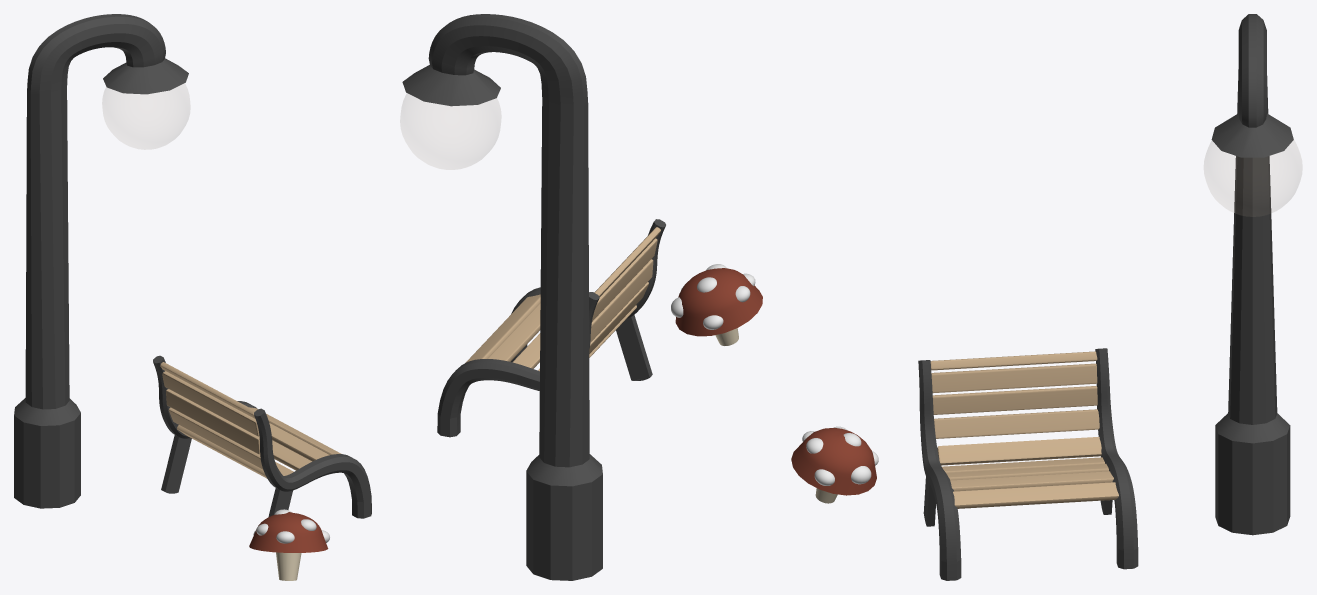
File: 10 lab.fbx
3 views of the same model, side by side, from view 1: azimuth 30°, elevation 25°; view 2: azimuth 150°, elevation 25°; view 3: azimuth 270°, elevation 25° (orthographic). The views are drawn at different scales.
Parts seen in each view (by area): view 1: Lamp, Light, pCube7, Shroom, pCube8, Plank7, Plank6, Plank8, Plank4, Plank5, Plank1, Plank3 (+1 smaller); view 2: Lamp, Light, Shroom, pCube8, pCube7, Plank7, Plank9, Plank4, Plank6, Plank5, Plank8, Plank3; view 3: Lamp, Light, pCube7, pCube8, Shroom, Plank6, Plank8, Plank7, Plank1, Plank9, Plank4, Plank5 (+2 smaller).
Boxes of the visible parts, bbox=[...] form: Lamp: bbox=[14, 14, 188, 508]; Light: bbox=[102, 84, 189, 149]; pCube7: bbox=[254, 408, 371, 518]; Shroom: bbox=[249, 512, 328, 580]; pCube8: bbox=[153, 355, 257, 493]; Plank7: bbox=[166, 389, 260, 454]; Plank6: bbox=[162, 371, 259, 436]; Plank8: bbox=[168, 407, 262, 469]; Plank4: bbox=[269, 423, 329, 461]; Plank5: bbox=[160, 362, 255, 418]; Plank1: bbox=[177, 425, 266, 478]; Plank3: bbox=[272, 440, 311, 470]; Lamp: bbox=[402, 14, 602, 580]; Light: bbox=[400, 94, 500, 169]; Shroom: bbox=[675, 268, 762, 345]; pCube8: bbox=[437, 292, 599, 437]; pCube7: bbox=[511, 219, 665, 380]; Plank7: bbox=[590, 259, 653, 342]; Plank9: bbox=[465, 294, 540, 362]; Plank4: bbox=[487, 303, 540, 361]; Plank6: bbox=[592, 238, 657, 321]; Plank5: bbox=[594, 227, 660, 297]; Plank8: bbox=[589, 282, 648, 353]; Plank3: bbox=[512, 333, 540, 368]; Lamp: bbox=[1211, 14, 1293, 535]; Light: bbox=[1204, 141, 1301, 216]; pCube7: bbox=[918, 360, 961, 580]; pCube8: bbox=[1095, 348, 1138, 569]; Shroom: bbox=[791, 427, 876, 503]; Plank6: bbox=[931, 363, 1097, 393]; Plank8: bbox=[934, 409, 1099, 438]; Plank7: bbox=[932, 386, 1097, 414]; Plank1: bbox=[937, 437, 1101, 465]; Plank9: bbox=[953, 482, 1118, 508]; Plank4: bbox=[950, 471, 1113, 491]; Plank5: bbox=[930, 351, 1097, 370].
Bounding box in the file's own units: 5.59 × 11.51 × 10.31.
